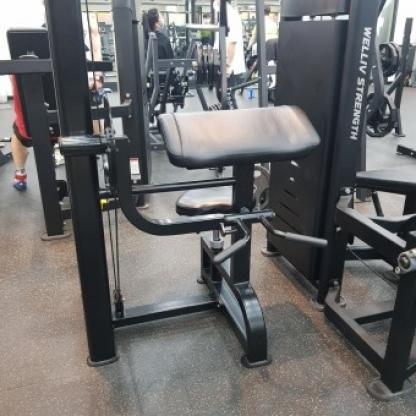arm curl machine: (57, 105, 327, 370)
